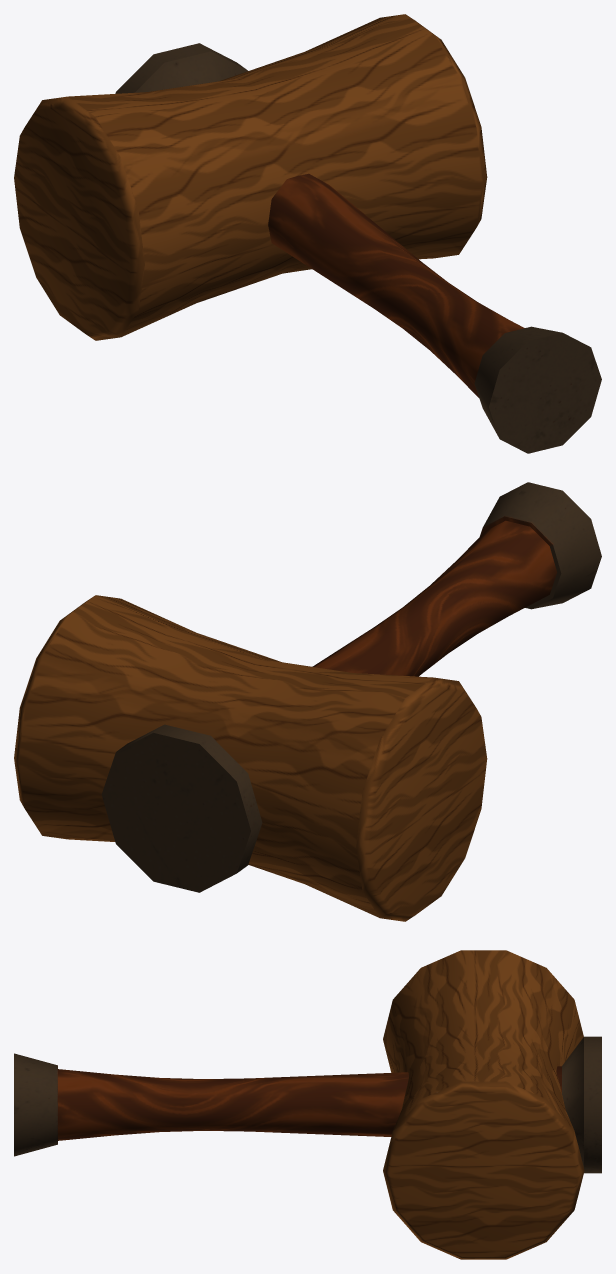
Rendered from MarteauMedieval.fbx.
3 renders of one model, top to bottom at view 1: azimuth 30°, elevation 25°; view 2: azimuth 150°, elevation 25°; view 3: azimuth 270°, elevation 25°, orthographic. The views are drawn at different scales.
Parts seen in each view (by area): view 1: MarteauMedieval; view 2: MarteauMedieval; view 3: MarteauMedieval.
Boxes of the visible parts, x1,y1,x2,y2 form: MarteauMedieval: (14, 14, 601, 453); MarteauMedieval: (14, 482, 601, 921); MarteauMedieval: (14, 950, 601, 1259).
Bounding box in the file's own units: 19.45 × 11.69 × 34.96.
1 material, 1 textured.
